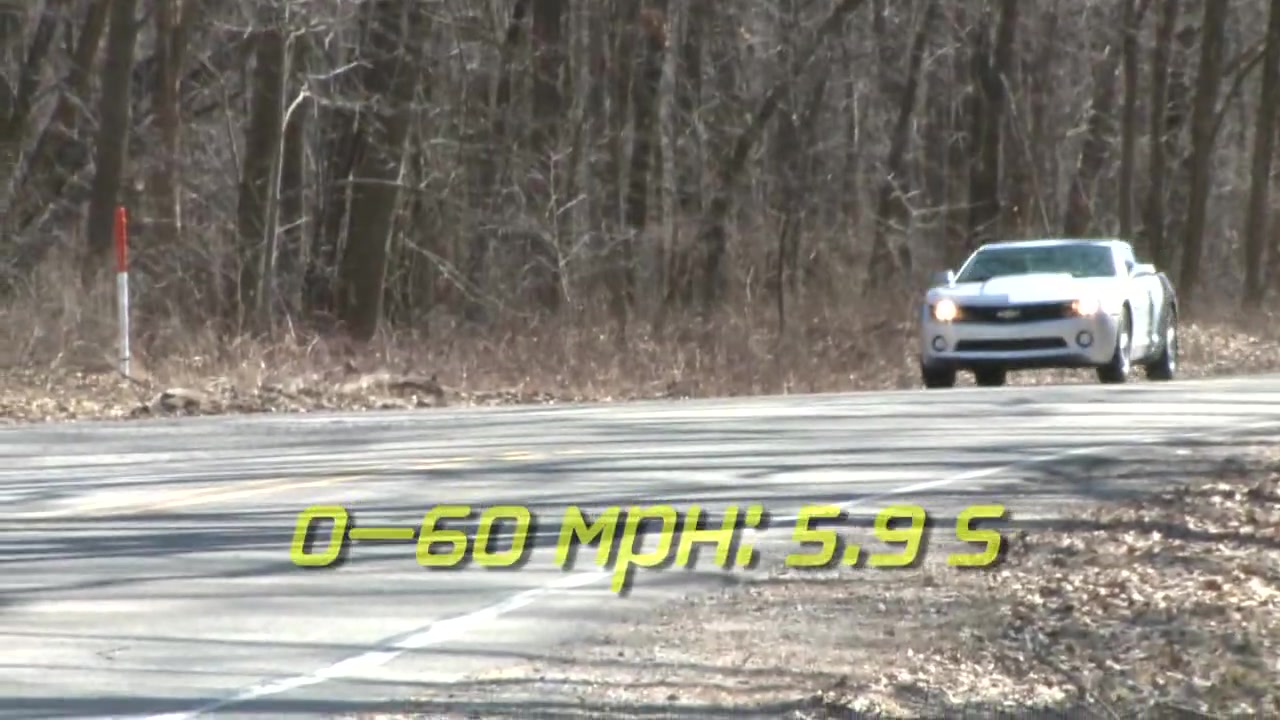car: (914, 230, 1185, 387)
